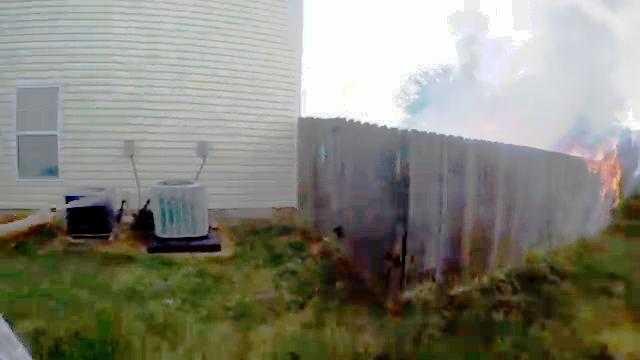fire: (584, 138, 622, 213)
smoke: (545, 12, 613, 135)
